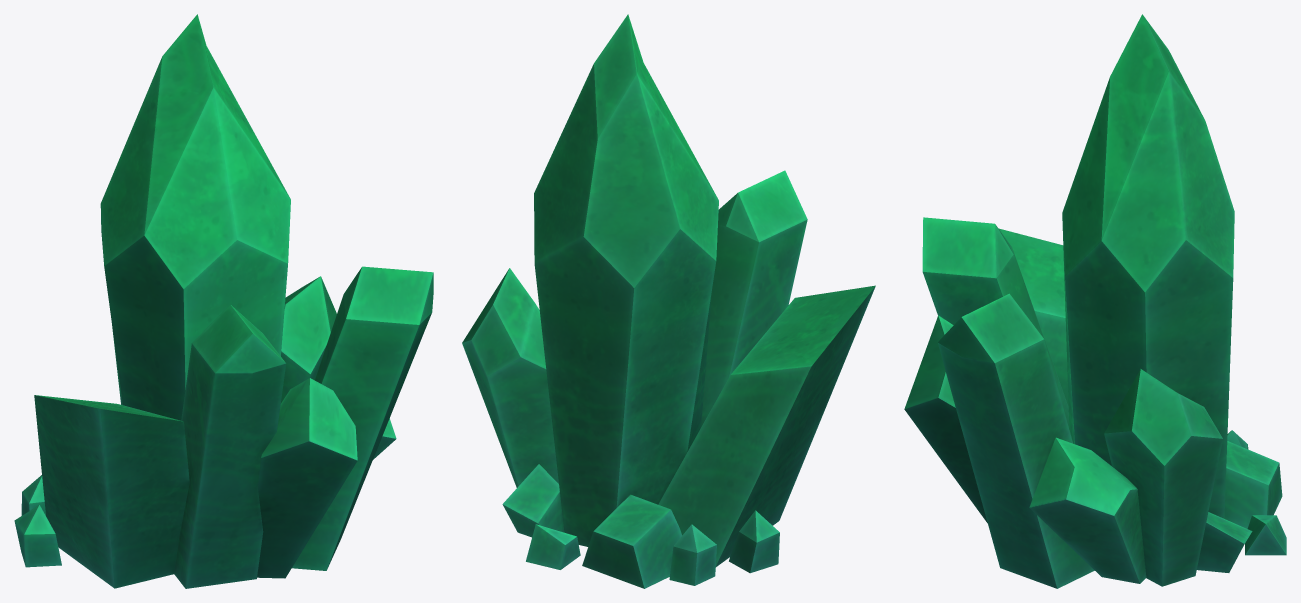
Rendered from Cystal Spike3.glb.
3 views of the same model, side by side, from view 1: azimuth 30°, elevation 25°; view 2: azimuth 150°, elevation 25°; view 3: azimuth 270°, elevation 25° (orthographic). The views are drawn at different scales.
Parts seen in each view (by area): view 1: Crystal Spike.002; view 2: Crystal Spike.002; view 3: Crystal Spike.002.
Part boxes in pixels (left/top/right/bottom): Crystal Spike.002: left=14, top=14, right=433, bottom=588; Crystal Spike.002: left=462, top=14, right=875, bottom=588; Crystal Spike.002: left=904, top=14, right=1286, bottom=588.
Bounding box in the file's own units: 1.8 × 2.64 × 1.74.
1 material, 1 textured.
